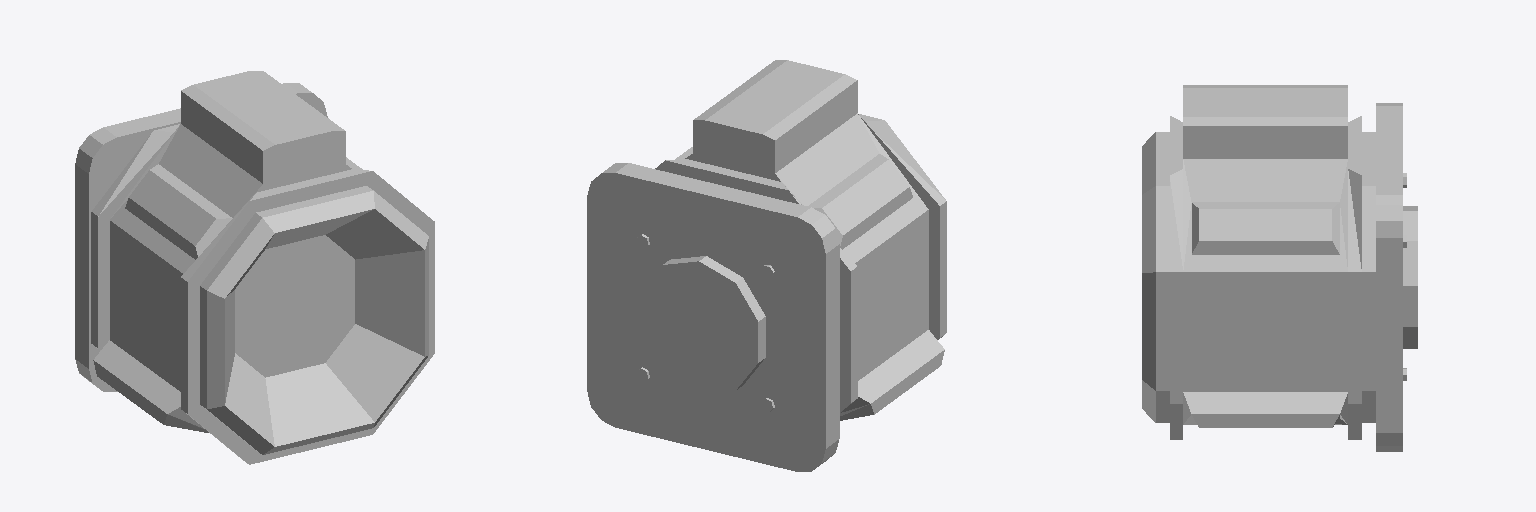
The model's file is obj_interactive_smartController_mini.obj.
The picture shows the model from 3 angles: view 1: azimuth 30°, elevation 25°; view 2: azimuth 150°, elevation 25°; view 3: azimuth 270°, elevation 25°; orthographic projection.
Visible parts, largest first — view 1: Cube; view 2: Cube; view 3: Cube.
Boxes of the visible parts, x1,y1,x2,y2 form: Cube: [75, 71, 434, 464]; Cube: [587, 60, 946, 471]; Cube: [1142, 85, 1417, 451].
Size of the model in its own units: 1.05 by 1.16 by 0.9449.